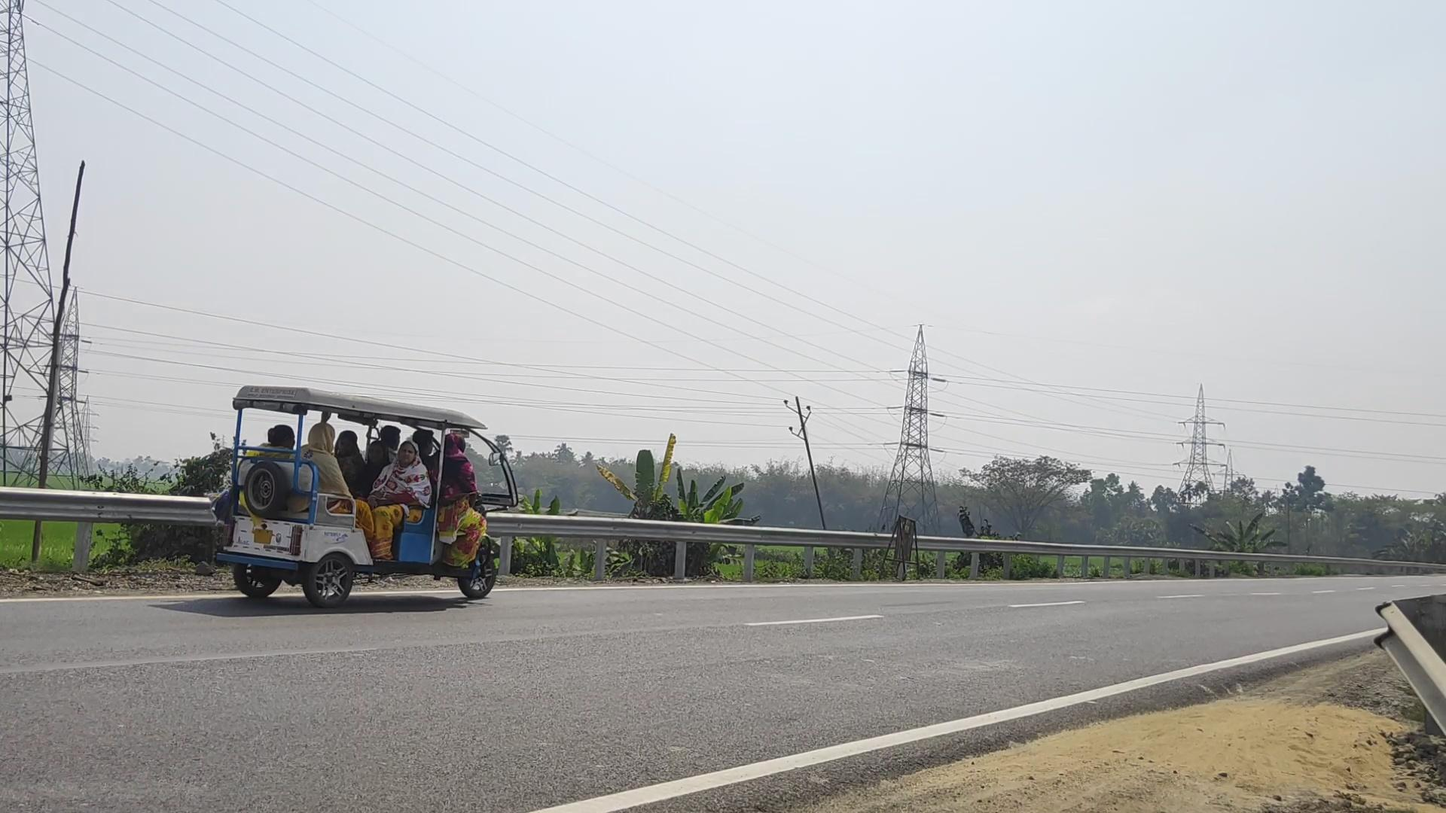Auto: (217, 385, 519, 607)
